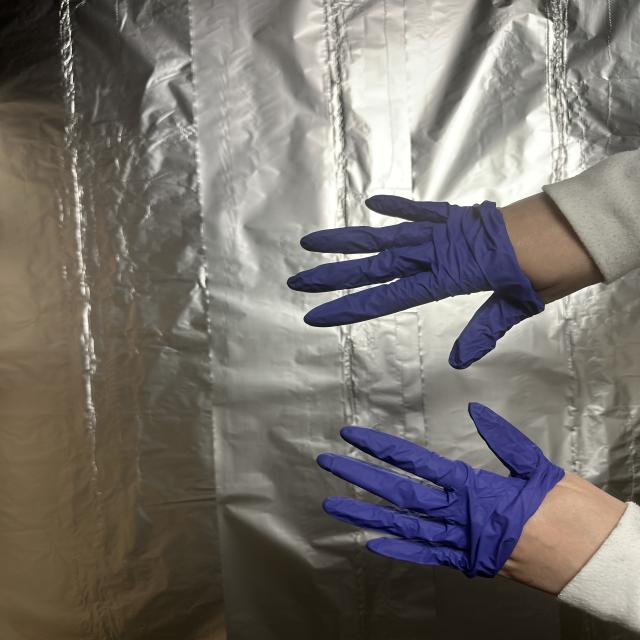glove_partial: (312, 401, 633, 599), (281, 185, 615, 369)
